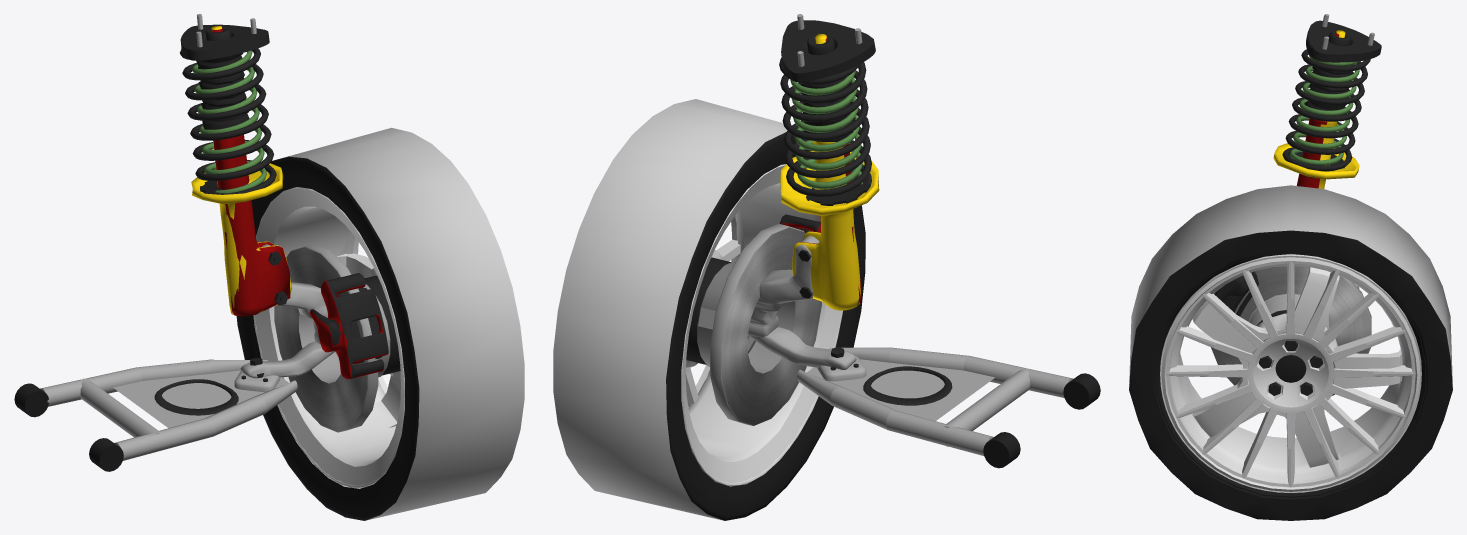
The model's file is 2606SuspensionFL.FBX.
3 views of the same model, side by side, from view 1: azimuth 30°, elevation 25°; view 2: azimuth 150°, elevation 25°; view 3: azimuth 270°, elevation 25° (orthographic). The views are drawn at different scales.
Visible parts, largest first — view 1: 06WheelFLType2, 06WheelFLType1, 06ArmL, 06AbsorberFLSport, 06AbsorberFLStock, 06BrakeDiskFL, 06CaliperFLStock, 06HubFL, 06CaliperFLSport, 06WiderFL; view 2: 06WheelFLType2, 06AbsorberFLStock, 06ArmL, 06BrakeDiskFL, 06WheelFLType1, 06HubFL, 06AbsorberFLSport, 06WiderFL; view 3: 06WheelFLType2, 06WheelFLType1, 06AbsorberFLStock, 06BrakeDiskFL, 06AbsorberFLSport, 06CaliperFLStock.
Boxes of the visible parts, box(x1,y1,x2,y2) form: 06WheelFLType2: box(236, 127, 524, 520); 06WheelFLType1: box(251, 184, 405, 491); 06ArmL: box(14, 359, 297, 471); 06AbsorberFLSport: box(183, 15, 290, 316); 06AbsorberFLStock: box(180, 14, 291, 314); 06BrakeDiskFL: box(274, 244, 390, 432); 06CaliperFLStock: box(311, 273, 388, 377); 06HubFL: box(240, 244, 338, 378); 06CaliperFLSport: box(309, 280, 387, 379); 06WiderFL: box(365, 275, 400, 375); 06WheelFLType2: box(553, 99, 865, 520); 06AbsorberFLStock: box(779, 14, 879, 310); 06ArmL: box(797, 347, 1100, 468); 06BrakeDiskFL: box(697, 223, 821, 425); 06WheelFLType1: box(681, 161, 845, 489); 06HubFL: box(747, 236, 856, 369); 06AbsorberFLSport: box(790, 15, 875, 305); 06WiderFL: box(686, 257, 731, 364); 06WheelFLType2: box(1129, 185, 1452, 520); 06WheelFLType1: box(1155, 251, 1426, 497); 06AbsorberFLStock: box(1273, 14, 1381, 188); 06BrakeDiskFL: box(1211, 266, 1371, 395); 06AbsorberFLSport: box(1288, 14, 1374, 188); 06CaliperFLStock: box(1214, 271, 1258, 316).
Size of the model in its own units: 21.14 by 26.19 by 18.4.
